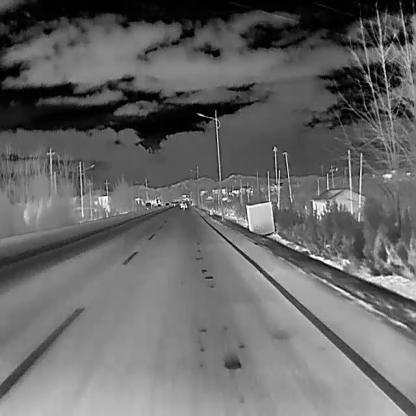car: (180, 200, 188, 208), (144, 202, 151, 211), (164, 202, 169, 206)
